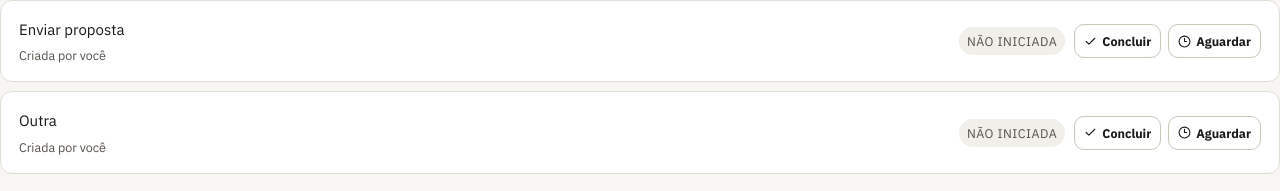
Test: 2F-SURFACE-010 — keyboard, focus and announcements › scopes the outcome to the row that produced it
The width and height of the screenshot is (1280, 191).
Click the button "Concluir" in the row of "Enviar proposta".
click(1118, 41)  # box [1074,24,1161,58]
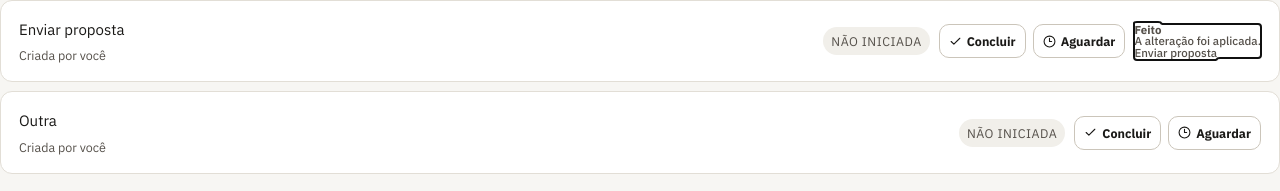
Expected: the number of elements named "Resultado da ação" is 1, [1134,24,1261,58]
